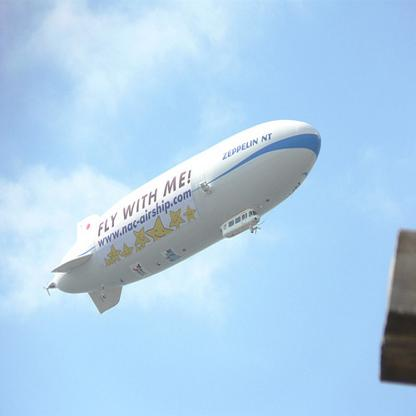Airship: (44, 117, 324, 317)
